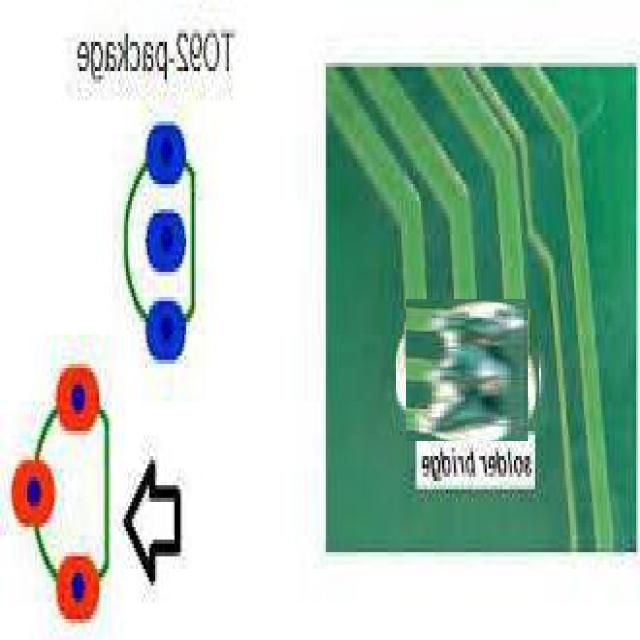Short_circuit: (401, 304, 534, 436)
